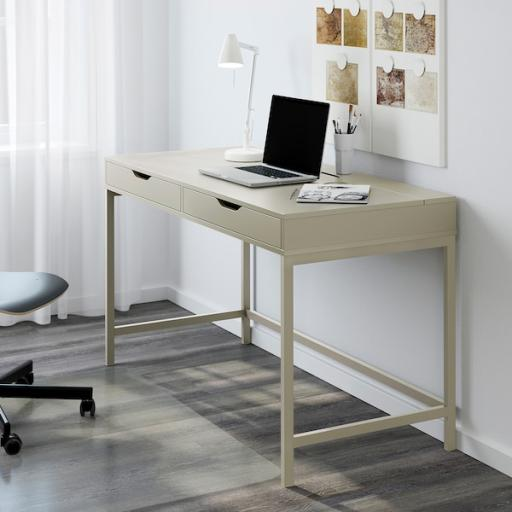chair: (0, 271, 96, 455)
desk: (102, 147, 458, 488)
